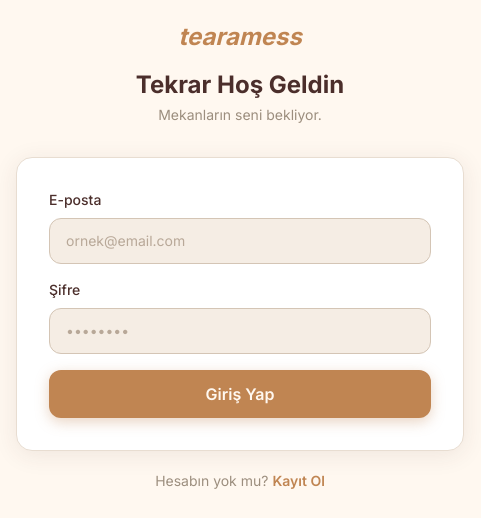
Scenario: LoginPage Zod validation › shows inline password error when password is shorter than 6 characters
Type "test@example.com" into the field labelled "E-posta" at (240,241), box [49,218,431,264]
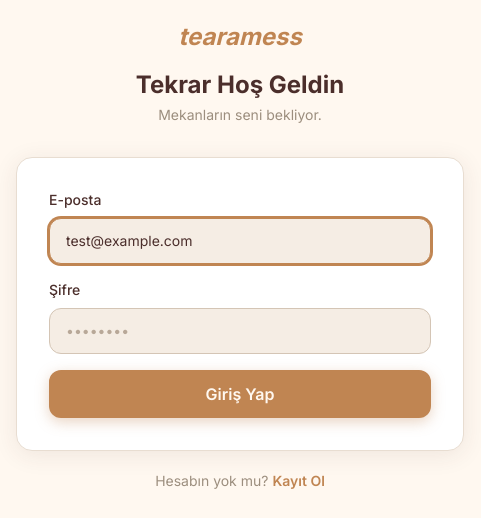
Type "123" into the password field labelled "Şifre" at (240,331), box [49,308,431,354]
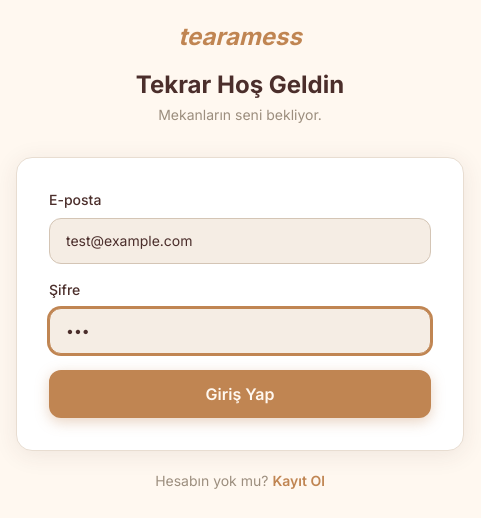
Click the button "Giriş Yap" at (240,394), box [49,370,431,418]
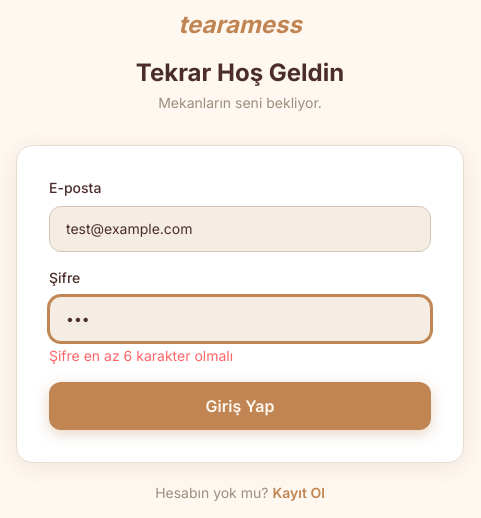
Expected: the text "Şifre en az 6 karakter olmalı" is shown, [49,347,233,364]
